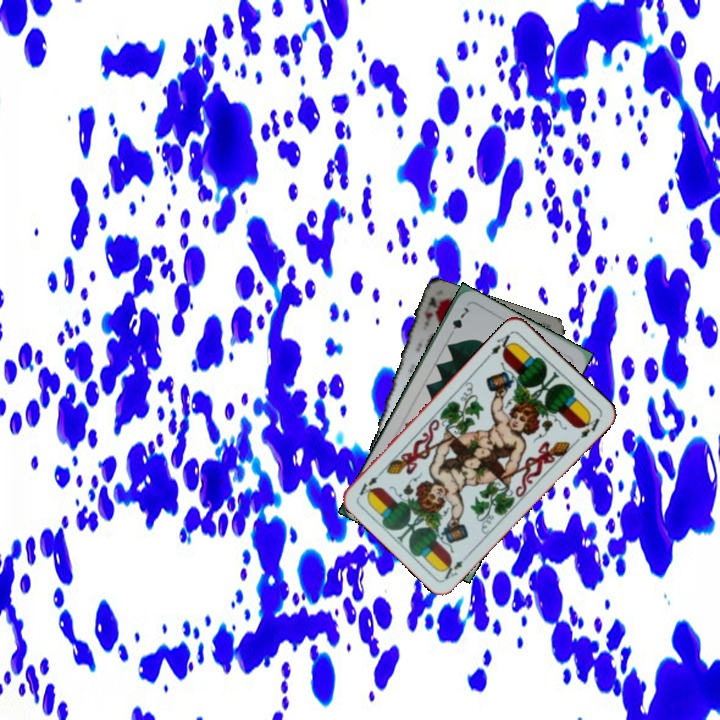EA: (438, 549, 472, 582), (483, 330, 516, 361)
G7: (445, 303, 473, 340)
HK: (420, 292, 443, 328)
